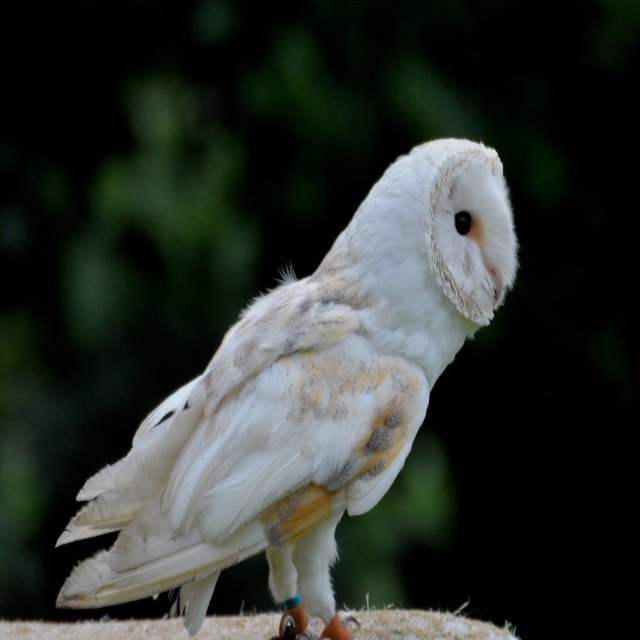Owl: (56, 137, 522, 639)
